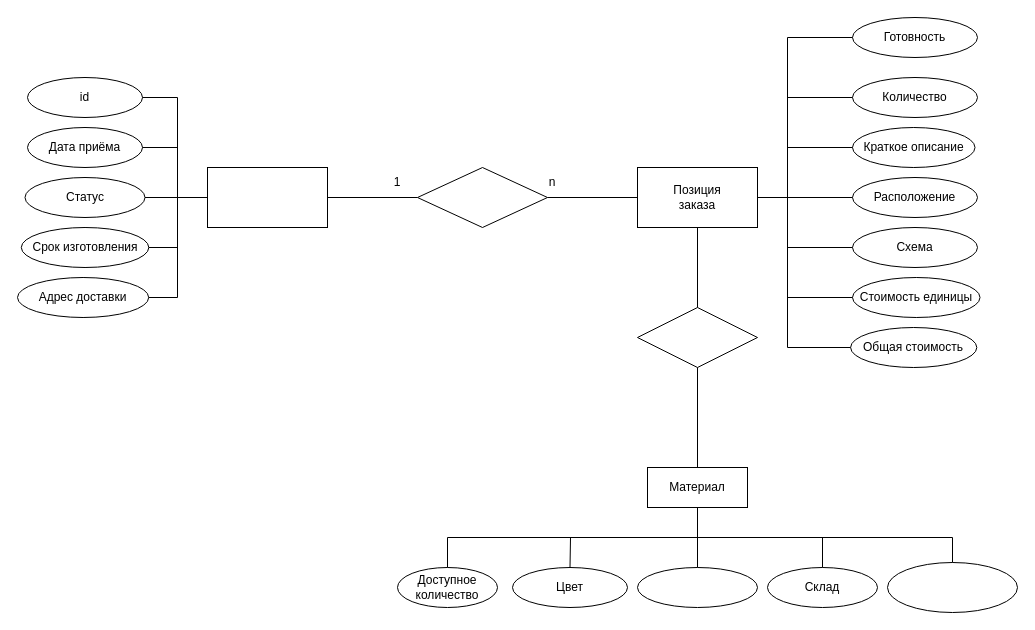
The diagram is 1035 pixels wide and 630 high, and some of its shapes have lost their labels. The shapes that lost their labels are listed below. From the top down, each one's box as (x1, y1, x2, y2) in pixels, then its label:
(206, 166, 328, 228): Заказ
(416, 166, 548, 228): содержит
(636, 306, 758, 368): может иметь
(636, 566, 758, 608): Толщина
(886, 562, 1018, 612): Расположение на складе
